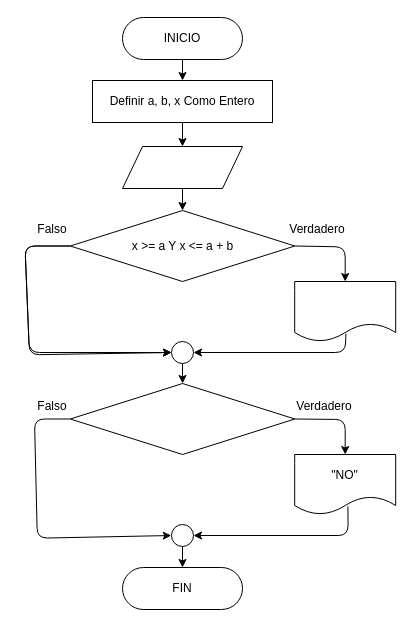
This 413x627 diagram has some shape labels left out. Each missing label, with the centre of its shape:
"YES": [345,311]
a, b, x: [182,167]
x < a Y x > a + b: [182,418]
